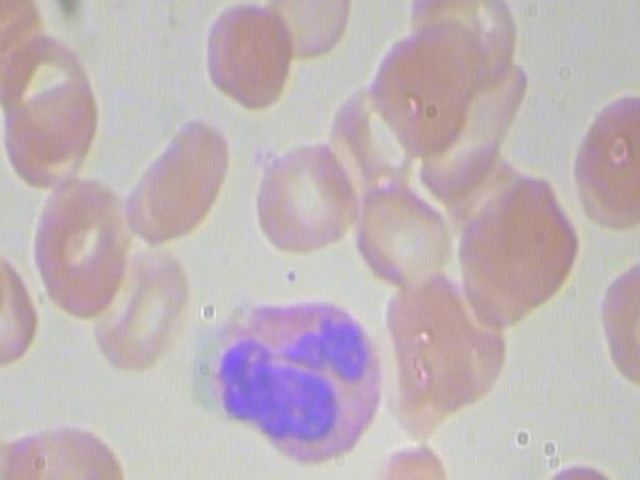Platelets: (618, 0, 640, 1)
RBC: (19, 173, 137, 324), (365, 20, 482, 165), (119, 111, 234, 251), (475, 170, 582, 318), (90, 226, 196, 374), (0, 20, 102, 167), (251, 125, 353, 262), (351, 170, 454, 291), (565, 90, 640, 235), (204, 0, 298, 107), (260, 0, 355, 60), (361, 440, 456, 480)
WBC: (196, 270, 392, 468)
